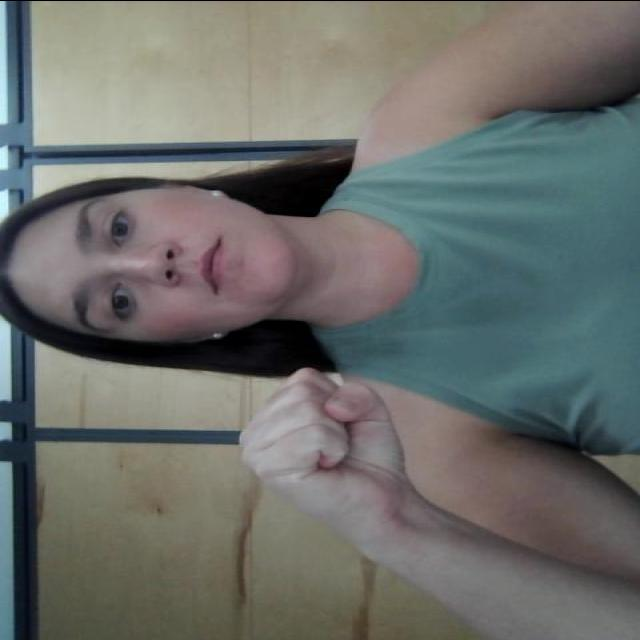Rock: (217, 340, 543, 568)
